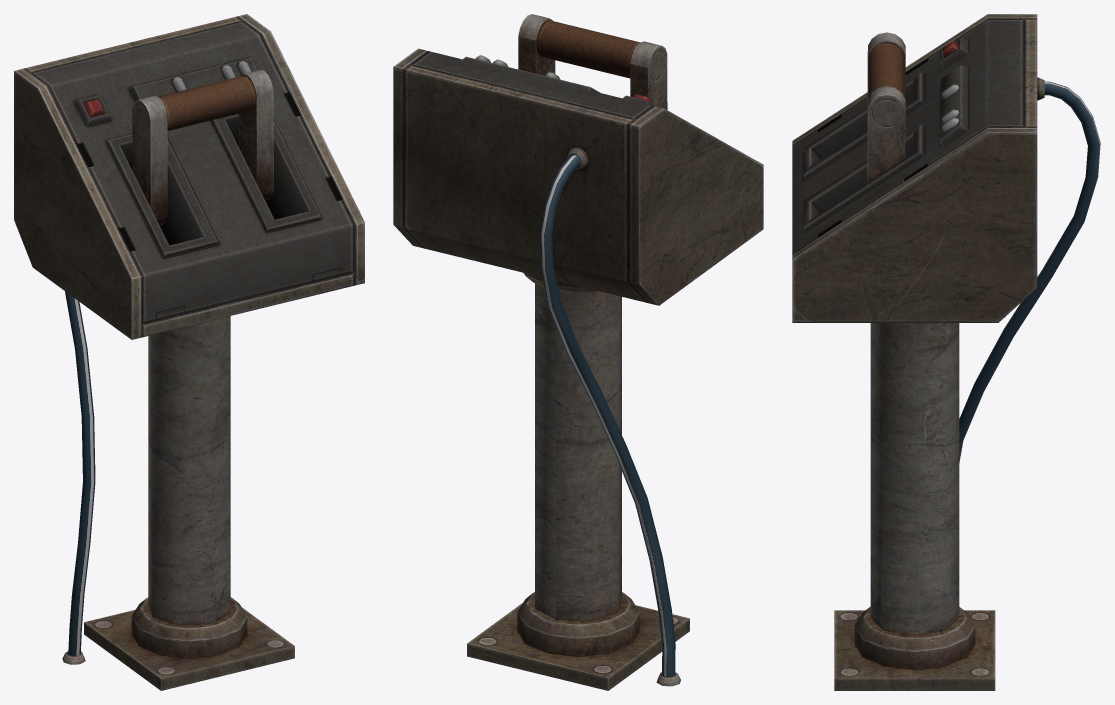
Rendered from lever.dae.
3 views of the same model, side by side, from view 1: azimuth 30°, elevation 25°; view 2: azimuth 150°, elevation 25°; view 3: azimuth 270°, elevation 25° (orthographic). The views are drawn at different scales.
Visible parts, largest first — view 1: low, lever__2_; view 2: low, lever__2_; view 3: low, lever__2_.
Boxes of the visible parts, <box> form: low: <box>14,14,364,690</box>; lever__2_: <box>132,70,273,225</box>; low: <box>393,48,763,690</box>; lever__2_: <box>518,14,667,109</box>; low: <box>792,14,1100,690</box>; lever__2_: <box>867,32,905,182</box>.
Bounding box in the file's own units: 0.609 × 1.42 × 0.6703.
